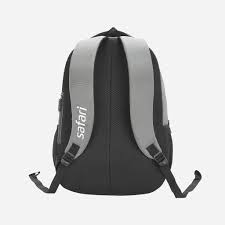backpack: (28, 26, 201, 198)
